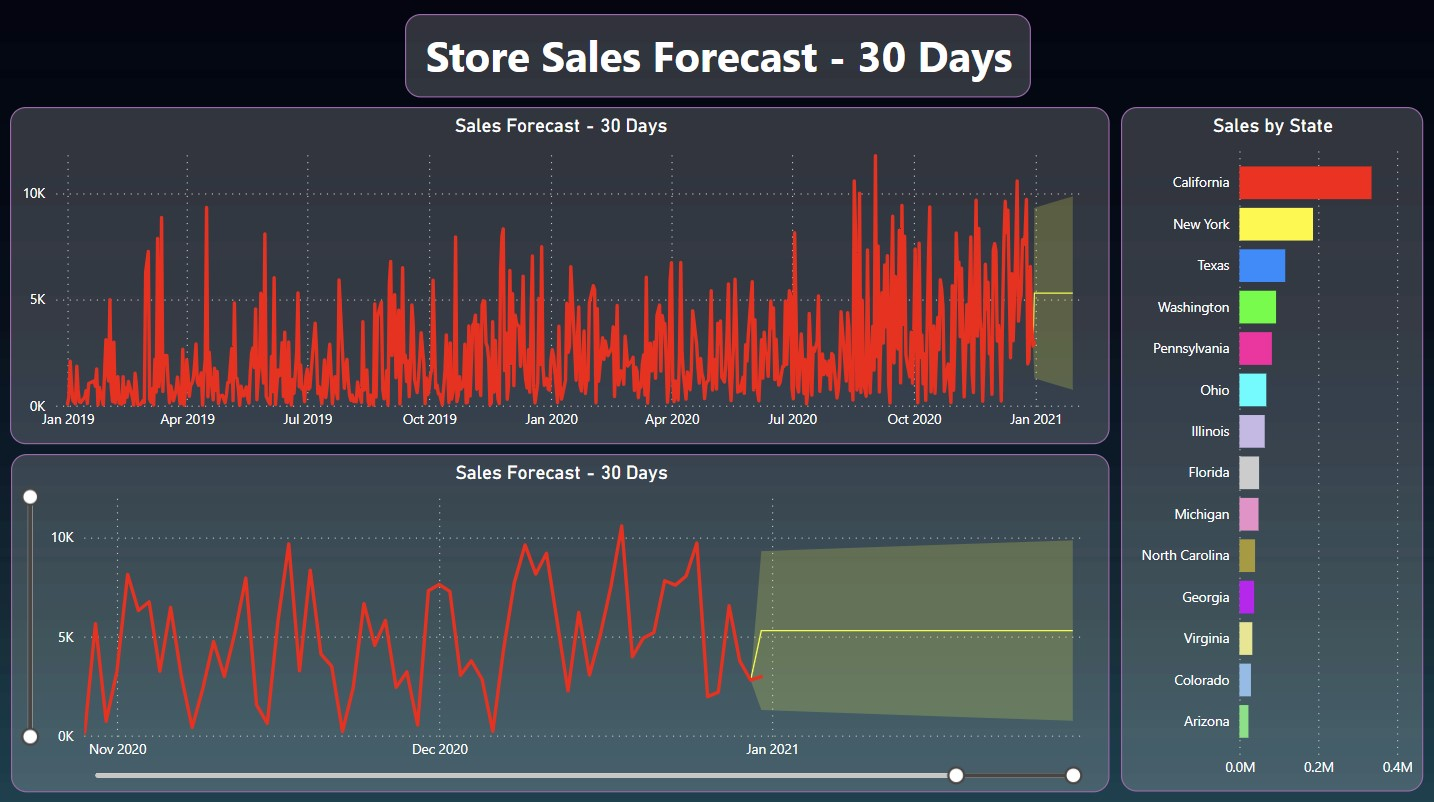

This screenshot's page, from the dashboard's own definition file:
{"tool":"powerbi","page":{"name":"Page 2","canvas":[1280,720],"ordinal":1},"visuals":[{"type":"lineChart","title":"Sales Forecast - 30 Days","fields":{"Y":["Sum(SuperStore_Sales_Dataset.Sales)"],"Category":["SuperStore_Sales_Dataset.Order Date"]},"box":[12.4,99.3,975.4,298.8],"z":0},{"type":"lineChart","title":"Sales Forecast - 30 Days","fields":{"Y":["Sum(SuperStore_Sales_Dataset.Sales)"],"Category":["SuperStore_Sales_Dataset.Order Date"]},"box":[13.3,407,974.5,299.7],"z":1000},{"type":"textbox","box":[362.7,16.8,555.1,74.5],"z":2000},{"type":"clusteredBarChart","title":"Sales by State","fields":{"Category":["SuperStore_Sales_Dataset.State"],"Y":["Sum(SuperStore_Sales_Dataset.Sales)"]},"box":[997.5,99.3,267.8,607.4],"z":3000}]}

Visuals, with their boxes in screenshot pixels (x1, y1, x2, y2), scaled from the page's 1280x720 canvas onto the 1434x802 screenshot:
"Sales Forecast - 30 Days" lineChart: l=14, t=111, r=1107, b=443
"Sales Forecast - 30 Days" lineChart: l=15, t=453, r=1107, b=787
textbox: l=406, t=19, r=1028, b=102
"Sales by State" clusteredBarChart: l=1118, t=111, r=1418, b=787
